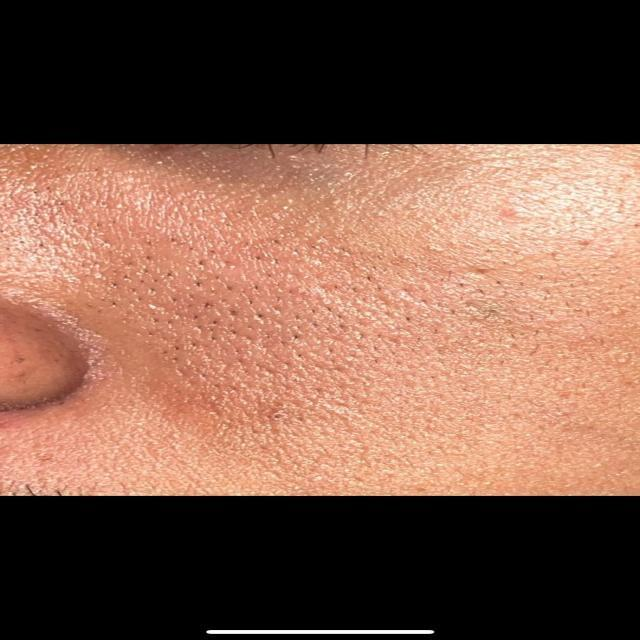blackhead: (63, 228, 580, 369)
